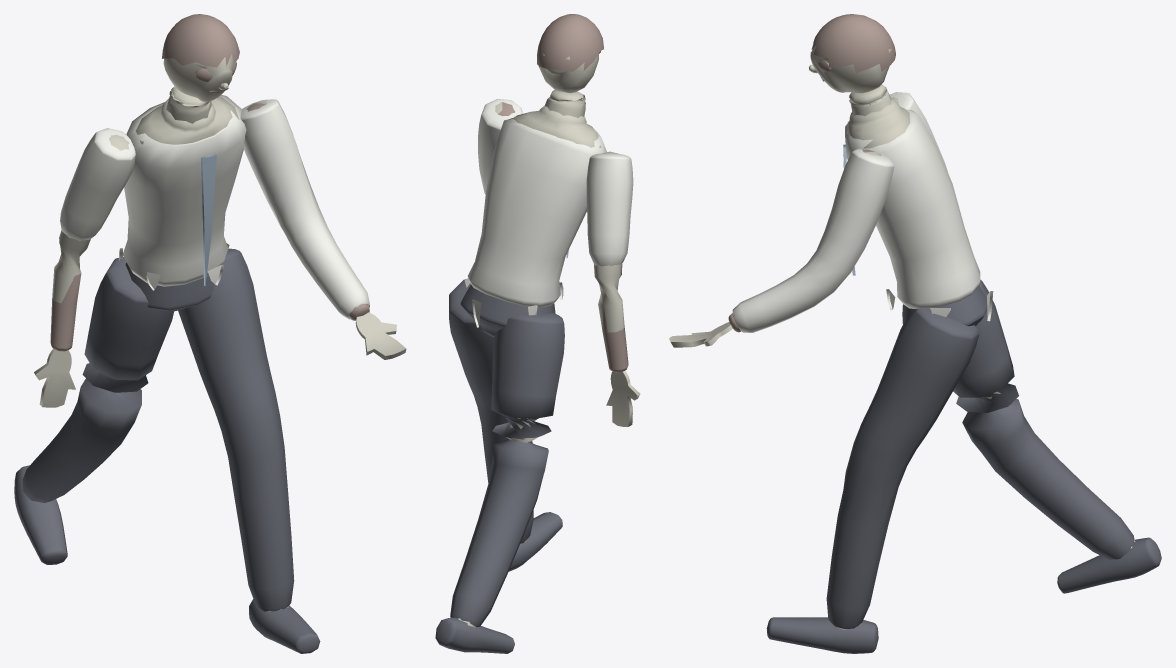
The model's file is undead-horde-and-infected-variants-walker-office-clerk-3f091e8f__11990.glb.
3 views of the same model, side by side, from view 1: azimuth 30°, elevation 25°; view 2: azimuth 150°, elevation 25°; view 3: azimuth 270°, elevation 25° (orthographic). The views are drawn at different scales.
Visible parts, largest first — view 1: walker-office-clerk-lurching; view 2: walker-office-clerk-lurching; view 3: walker-office-clerk-lurching.
Boxes of the visible parts, x1=… form: walker-office-clerk-lurching: x1=14, y1=14, x2=406, y2=653; walker-office-clerk-lurching: x1=435, y1=14, x2=640, y2=653; walker-office-clerk-lurching: x1=669, y1=14, x2=1161, y2=653.
Size of the model in its own units: 0.6704 by 1.67 by 1.23.
